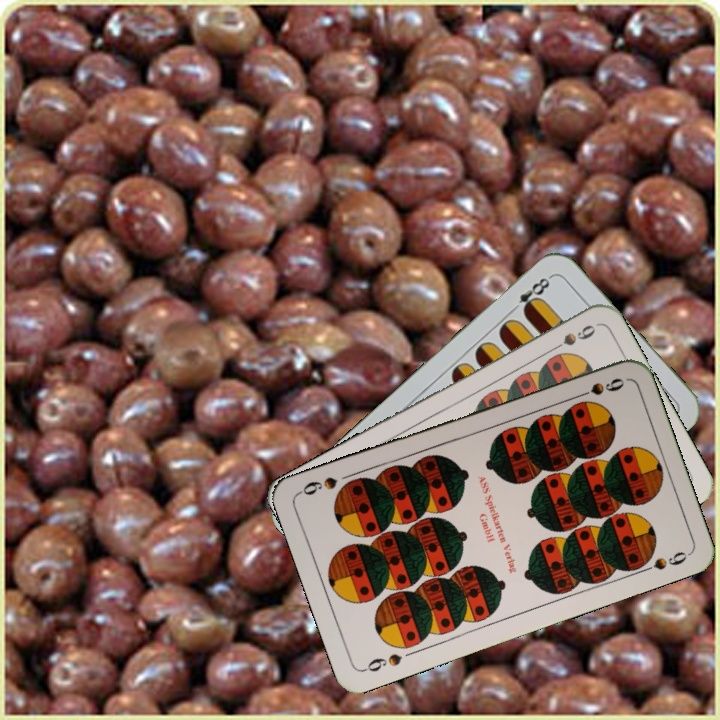E8: (505, 271, 554, 317)
S9: (544, 320, 598, 356), (570, 373, 627, 402), (359, 649, 405, 675)
